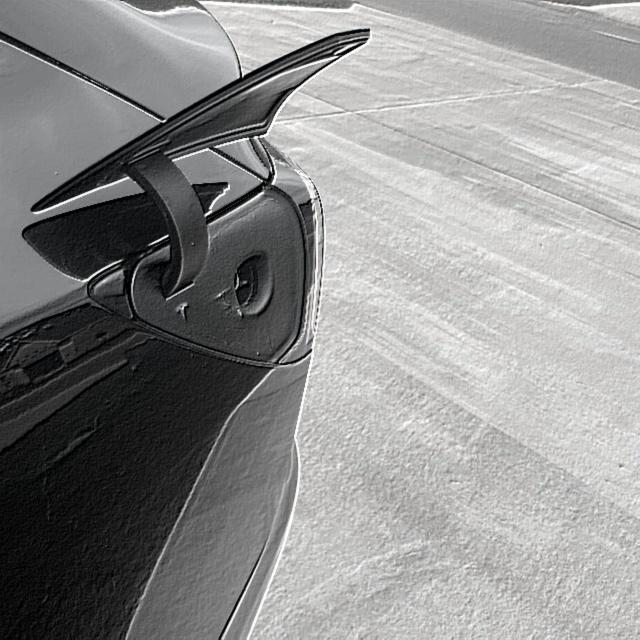Tesla Model-S-: (219, 235, 289, 332)
